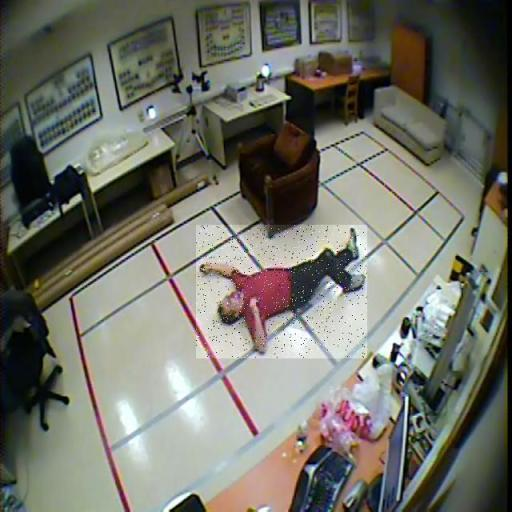Fall: (196, 225, 367, 358)
